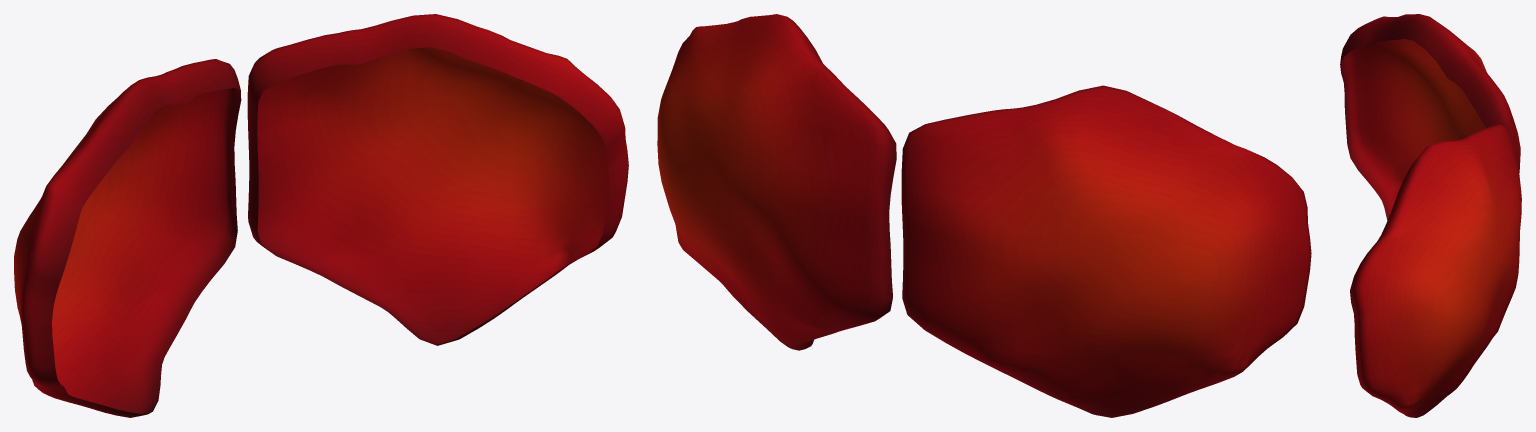
File: Rock Butt.fbx
The picture shows the model from 3 angles, left to right: view 1: azimuth 30°, elevation 25°; view 2: azimuth 150°, elevation 25°; view 3: azimuth 270°, elevation 25°; orthographic projection. The views are drawn at different scales.
Visible parts, largest first — view 1: Gluteo_Izquierdo, Gluteo_derecho; view 2: Gluteo_derecho, Gluteo_Izquierdo; view 3: Gluteo_Izquierdo, Gluteo_derecho.
Part boxes in pixels (bbox=[...]): Gluteo_Izquierdo: bbox=[247, 14, 628, 345]; Gluteo_derecho: bbox=[14, 59, 241, 417]; Gluteo_derecho: bbox=[901, 85, 1311, 417]; Gluteo_Izquierdo: bbox=[657, 14, 896, 350]; Gluteo_Izquierdo: bbox=[1350, 124, 1521, 417]; Gluteo_derecho: bbox=[1340, 14, 1520, 220].
Bounding box in the file's own units: 0.8142 × 0.419 × 0.251.
